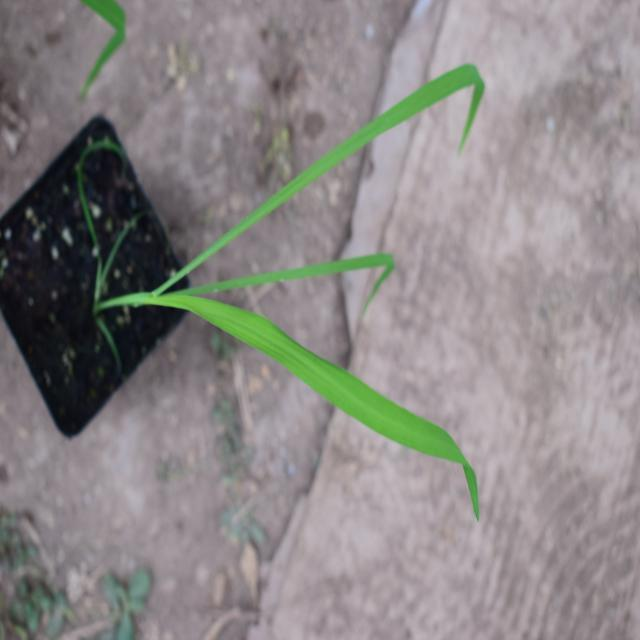barnyard_grass: (120, 59, 513, 521)
